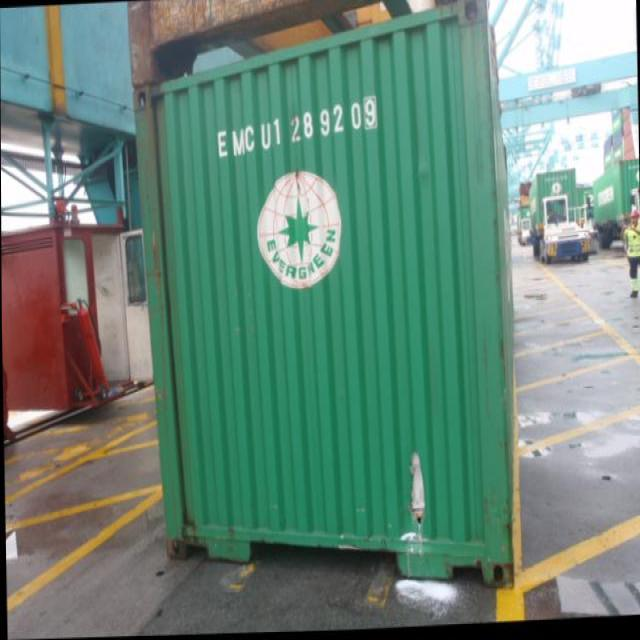hole: (408, 452, 428, 531)
